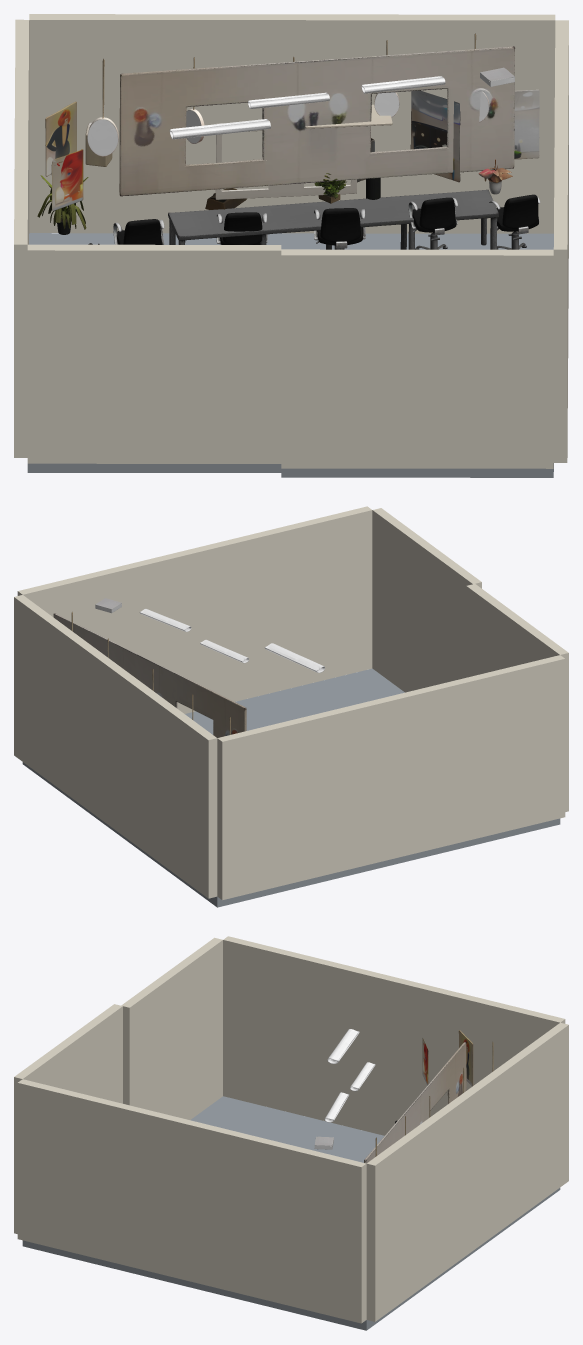
File: stage2.glb
3 views of the same model, one above another, from view 1: azimuth 30°, elevation 25°; view 2: azimuth 150°, elevation 25°; view 3: azimuth 270°, elevation 25° (orthographic). The views are drawn at different scales.
Visible parts, largest first — view 1: Wall_01, geometry_0.026, Floor, geometry_0.008, geometry_0.005 (×5), geometry_0.014, geometry_0.002, geometry_0.006, geometry_0.021 (×2), geometry_0.004, geometry_0.009, geometry_0.017 (+1 smaller); view 2: Wall_01, Floor, geometry_0.026, geometry_0.014; view 3: Wall_01, Floor, geometry_0.026, geometry_0.014.
Part boxes in pixels (left/top/right/bottom): Wall_01: left=14, top=14, right=568, bottom=468; geometry_0.026: left=119, top=46, right=515, bottom=196; Floor: left=27, top=233, right=553, bottom=477; geometry_0.008: left=168, top=189, right=498, bottom=249; geometry_0.005 (×5): left=113, top=194, right=540, bottom=249; geometry_0.014: left=169, top=76, right=445, bottom=139; geometry_0.002: left=410, top=90, right=460, bottom=182; geometry_0.006: left=514, top=89, right=539, bottom=159; geometry_0.021 (×2): left=87, top=40, right=399, bottom=156; geometry_0.004: left=51, top=149, right=83, bottom=210; geometry_0.009: left=45, top=101, right=76, bottom=176; geometry_0.017: left=215, top=123, right=356, bottom=199; Wall_01: left=14, top=506, right=568, bottom=900; Floor: left=22, top=668, right=560, bottom=907; geometry_0.026: left=53, top=613, right=246, bottom=737; geometry_0.014: left=139, top=608, right=324, bottom=672; Wall_01: left=14, top=936, right=568, bottom=1323; Floor: left=22, top=1096, right=560, bottom=1330; geometry_0.026: left=364, top=1042, right=466, bottom=1163; geometry_0.014: left=324, top=1029, right=375, bottom=1122.
Size of the model in its own units: 13.64 by 4.6 by 13.85.
Materials: 25 (23 with a texture image).
